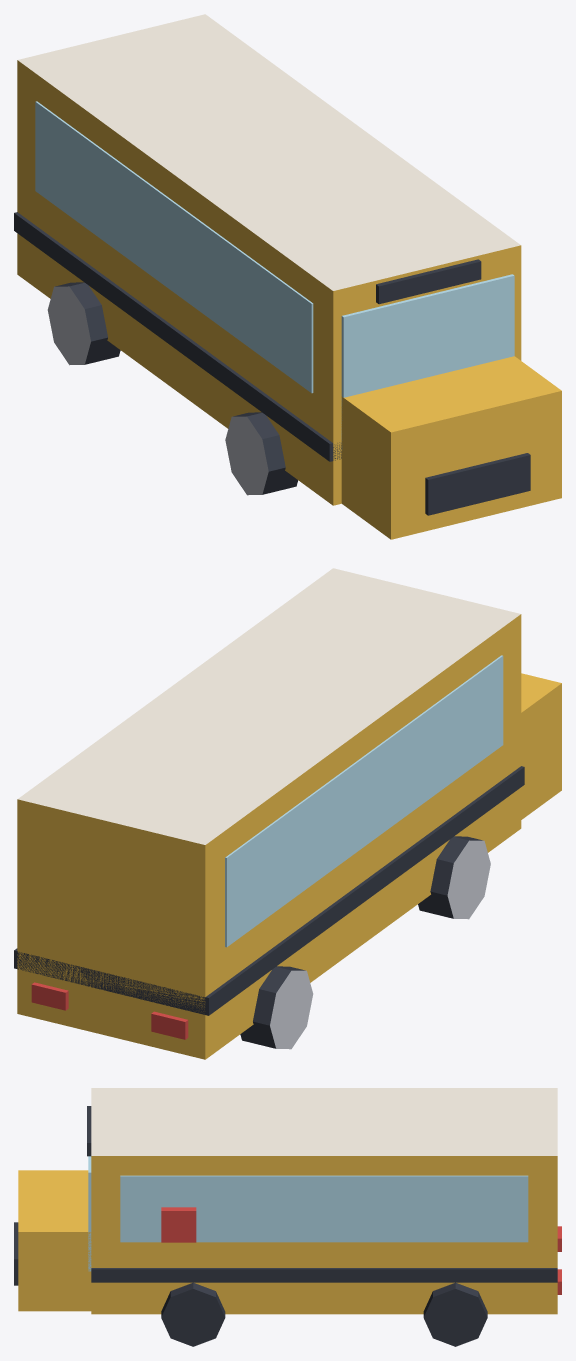
File: vehicle_school_bus.glb
3 views of the same model, one above another, from view 1: azimuth 30°, elevation 25°; view 2: azimuth 150°, elevation 25°; view 3: azimuth 270°, elevation 25° (orthographic). The views are drawn at different scales.
Visible parts, largest first — view 1: vehicle_school_bus; view 2: vehicle_school_bus; view 3: vehicle_school_bus.
Boxes of the visible parts, x1=… form: vehicle_school_bus: x1=14, y1=14, x2=561, y2=539; vehicle_school_bus: x1=14, y1=568, x2=561, y2=1059; vehicle_school_bus: x1=14, y1=1088, x2=561, y2=1346.
Size of the model in its own units: 0.13 by 0.14 by 0.376.
